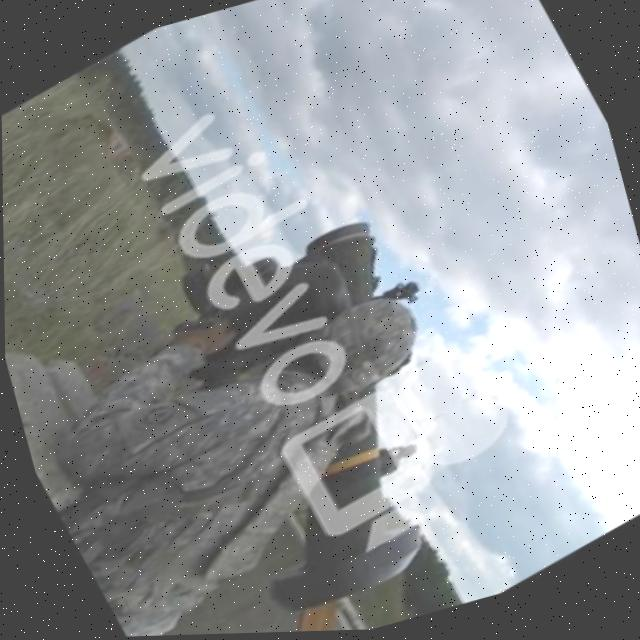rocket: (203, 376, 469, 635)
